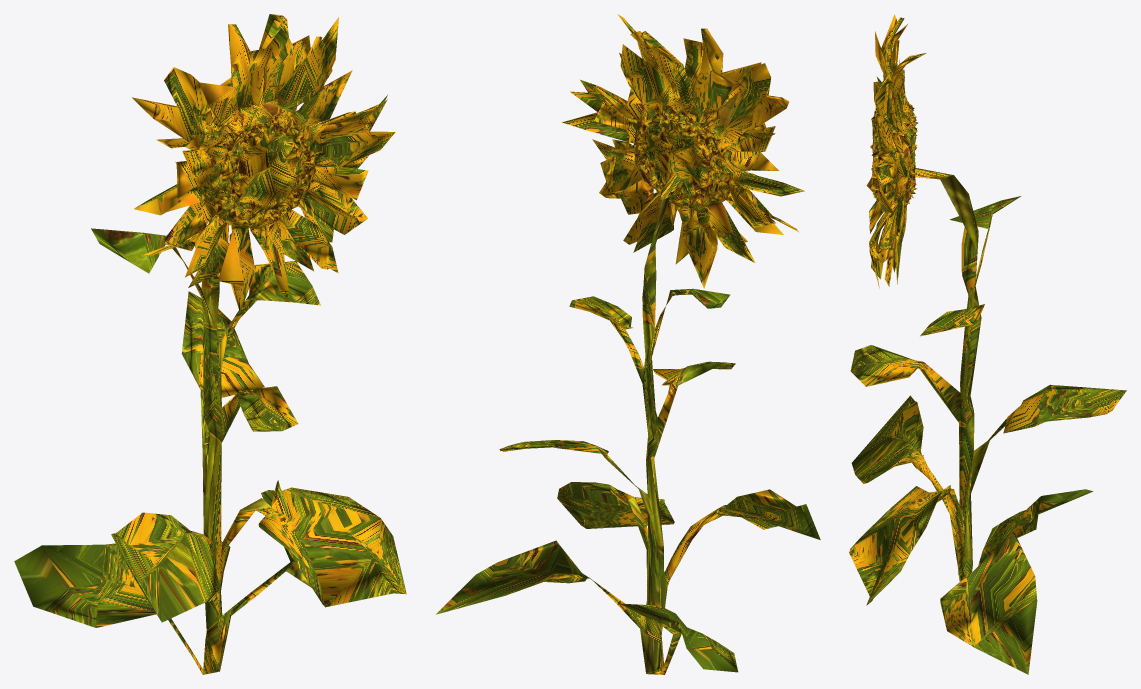
Rendered from sunflower.glb.
The picture shows the model from 3 angles, left to right: view 1: azimuth 30°, elevation 25°; view 2: azimuth 150°, elevation 25°; view 3: azimuth 270°, elevation 25°; orthographic projection. The views are drawn at different scales.
Bounding box in the file's own units: 0.9364 × 1.8 × 0.757.
Materials: 1 (1 with a texture image).
